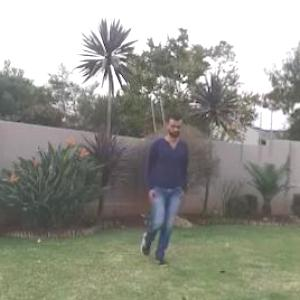follow: (143, 111, 185, 256)
